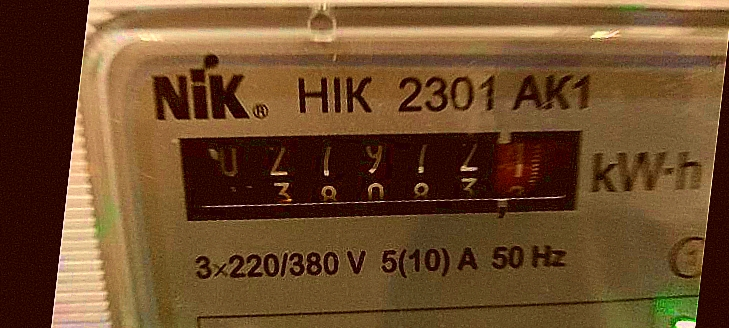0: (212, 140, 244, 179)
1: (507, 137, 533, 182)
2: (261, 136, 295, 179), (453, 135, 485, 174)
7: (405, 134, 436, 178), (312, 139, 339, 179)
9: (359, 138, 389, 175)
screen: (152, 73, 619, 278)
